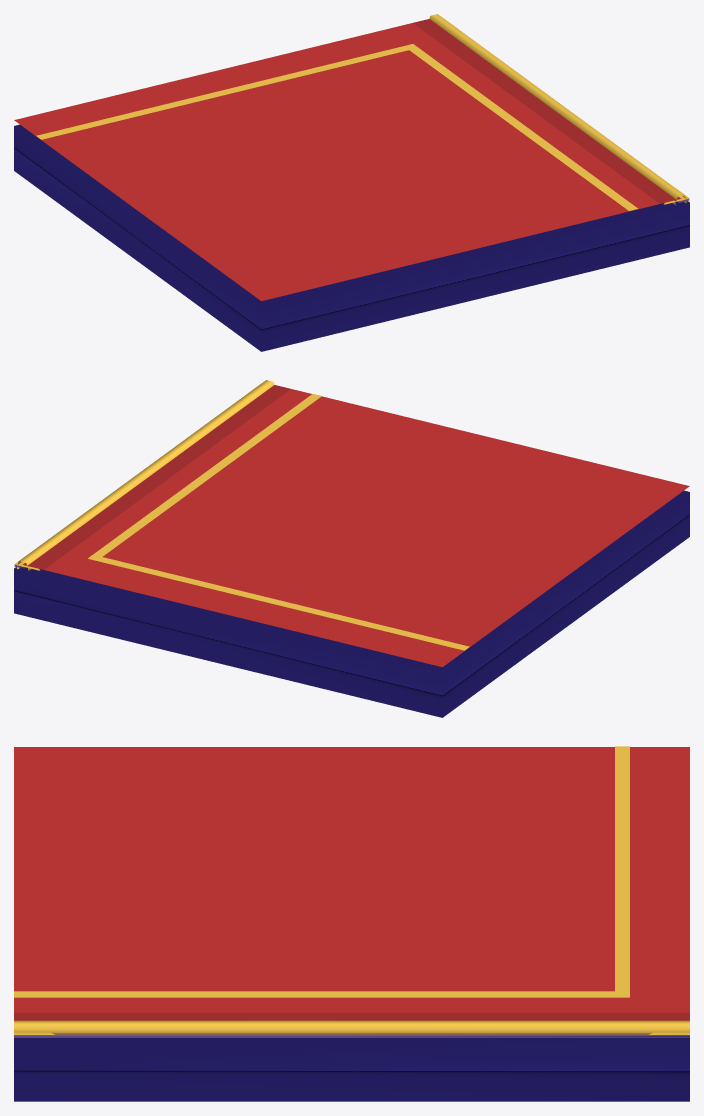
Rendered from tile_red_carpet_r_head.glb.
The picture shows the model from 3 angles, top to bottom: view 1: azimuth 30°, elevation 25°; view 2: azimuth 150°, elevation 25°; view 3: azimuth 270°, elevation 25°; orthographic projection. The views are drawn at different scales.
Parts seen in each view (by area): view 1: Tile.001; view 2: Tile.001; view 3: Tile.001.
Part boxes in pixels (<box>): Tile.001: <box>14,14,689,351</box>; Tile.001: <box>14,380,689,717</box>; Tile.001: <box>14,746,689,1101</box>.
Size of the model in its own units: 1 by 0.1191 by 1.
